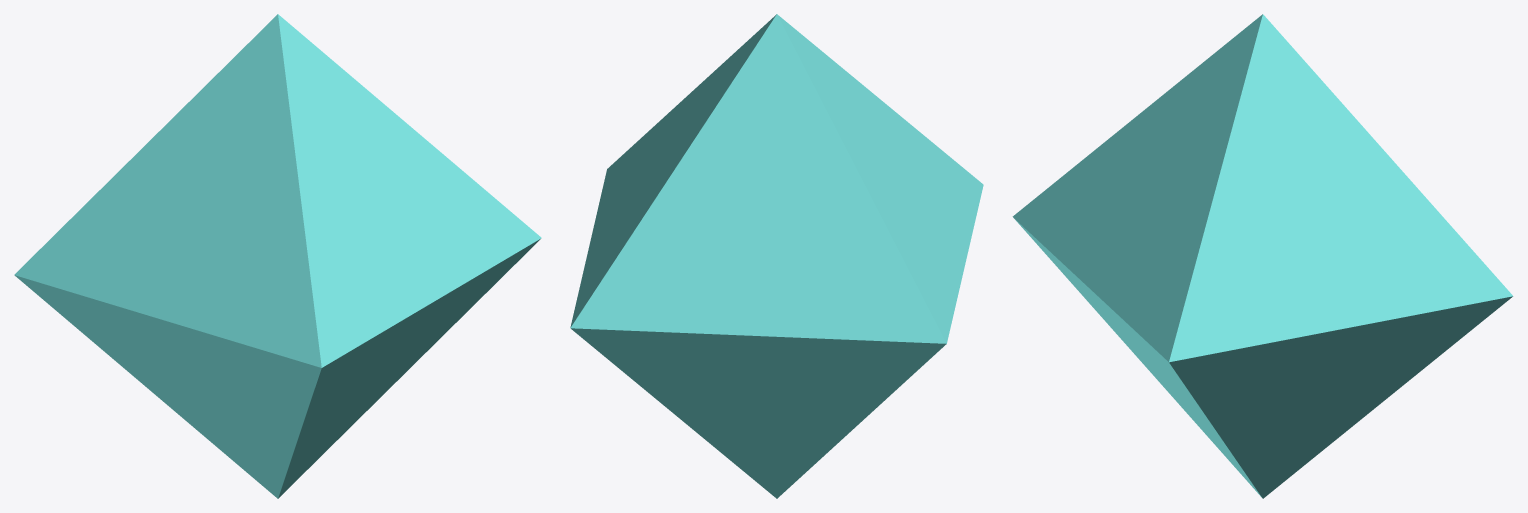
File: Raumschiff.fbx
The picture shows the model from 3 angles, left to right: view 1: azimuth 30°, elevation 25°; view 2: azimuth 150°, elevation 25°; view 3: azimuth 270°, elevation 25°; orthographic projection.
Parts seen in each view (by area): view 1: polySurface2; view 2: polySurface2; view 3: polySurface2.
Part boxes in pixels (x1=…): polySurface2: x1=14, y1=14, x2=541, y2=498; polySurface2: x1=570, y1=14, x2=983, y2=498; polySurface2: x1=1012, y1=14, x2=1513, y2=498.
Bounding box in the file's own units: 12.37 × 13.22 × 12.37.
